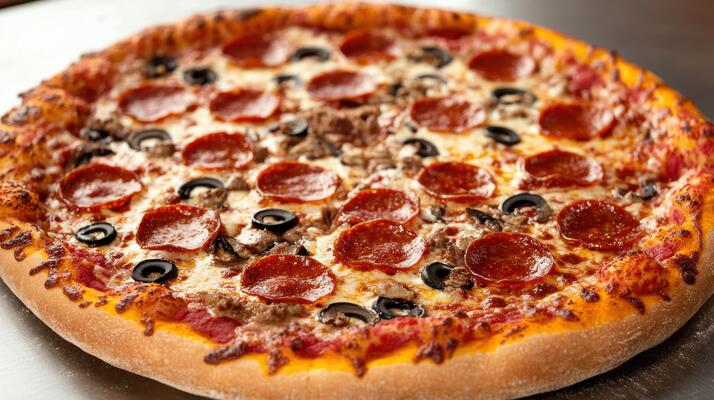Olives: (316, 301, 383, 331), (423, 259, 476, 293), (499, 191, 552, 220), (372, 293, 428, 320), (128, 126, 175, 157), (251, 209, 301, 234), (72, 220, 119, 246), (133, 259, 178, 286), (407, 46, 454, 68), (490, 87, 541, 107), (175, 178, 231, 196), (141, 55, 180, 78), (288, 47, 335, 64), (269, 119, 310, 137), (267, 72, 304, 91), (183, 67, 219, 85), (483, 128, 520, 145), (405, 140, 438, 157)
Pepperoni: (321, 221, 430, 270), (464, 229, 550, 285), (238, 257, 339, 304), (556, 202, 645, 251), (51, 165, 148, 209), (254, 157, 347, 200), (132, 208, 223, 250), (116, 83, 206, 121), (412, 93, 486, 134), (415, 163, 496, 199), (183, 133, 259, 171), (467, 43, 540, 82), (333, 27, 403, 67), (537, 103, 616, 136), (209, 87, 283, 122), (220, 32, 296, 66), (521, 152, 600, 183), (307, 72, 380, 101)
Pizza: (0, 1, 712, 399), (335, 182, 420, 225)
